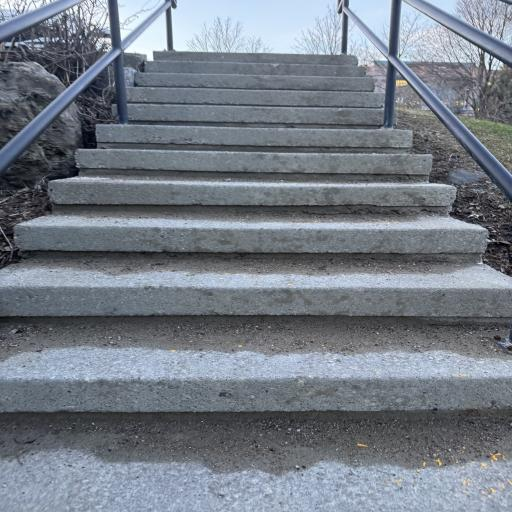Stairs: (0, 52, 512, 412)
